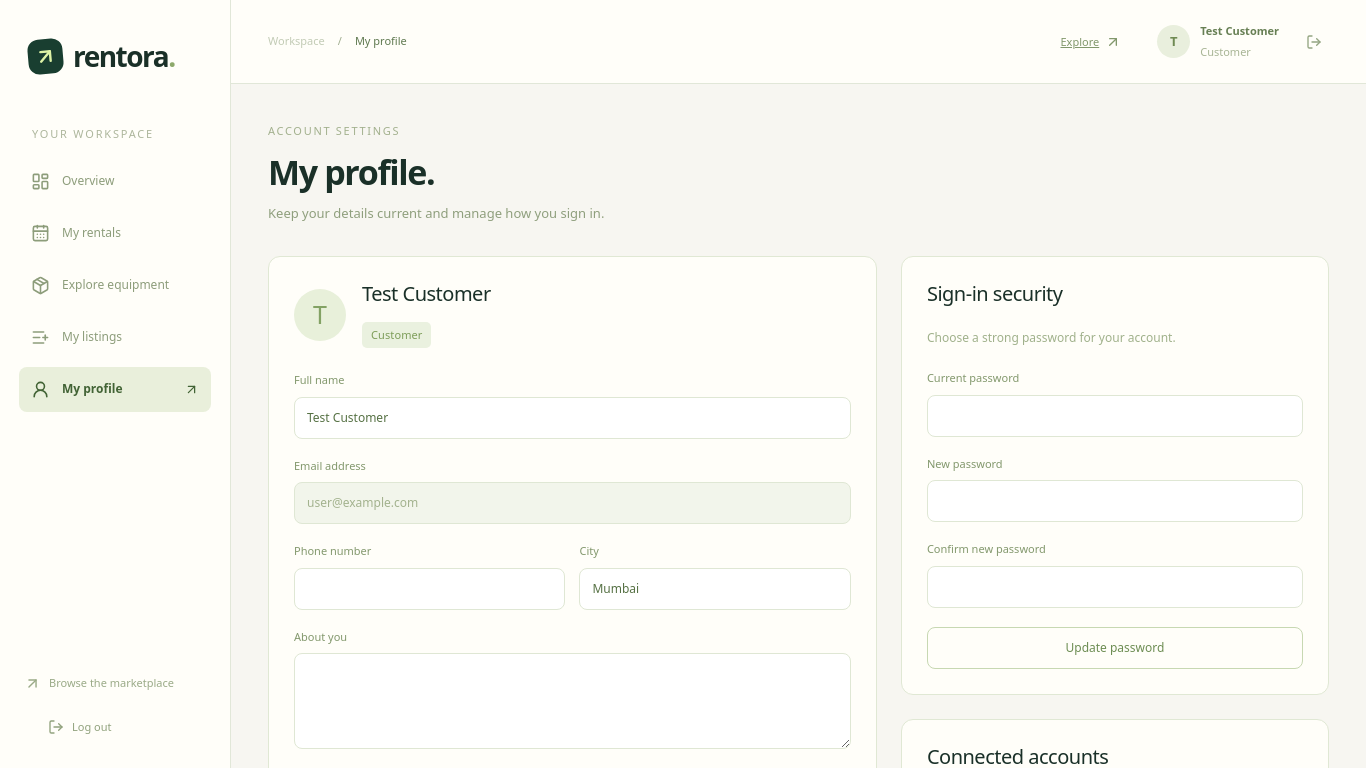
it: Rentora URL routes and account flows › opens a customer profile directly and saves changes using the API
Replace the text in the field labelled "City" with "Pune" at [715, 589], box [580, 568, 851, 610]
(page scrolled)
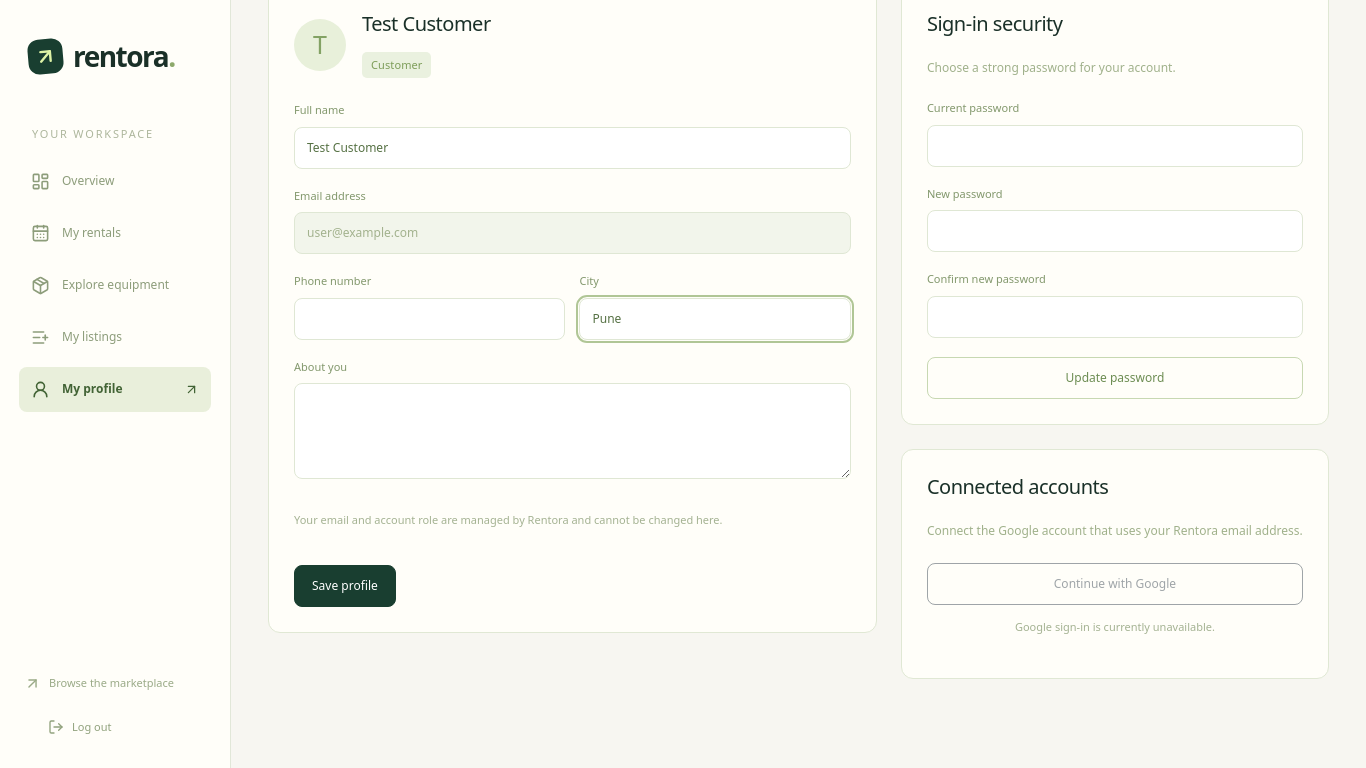
Click the button "Save profile" at [345, 586], box [294, 565, 396, 607]
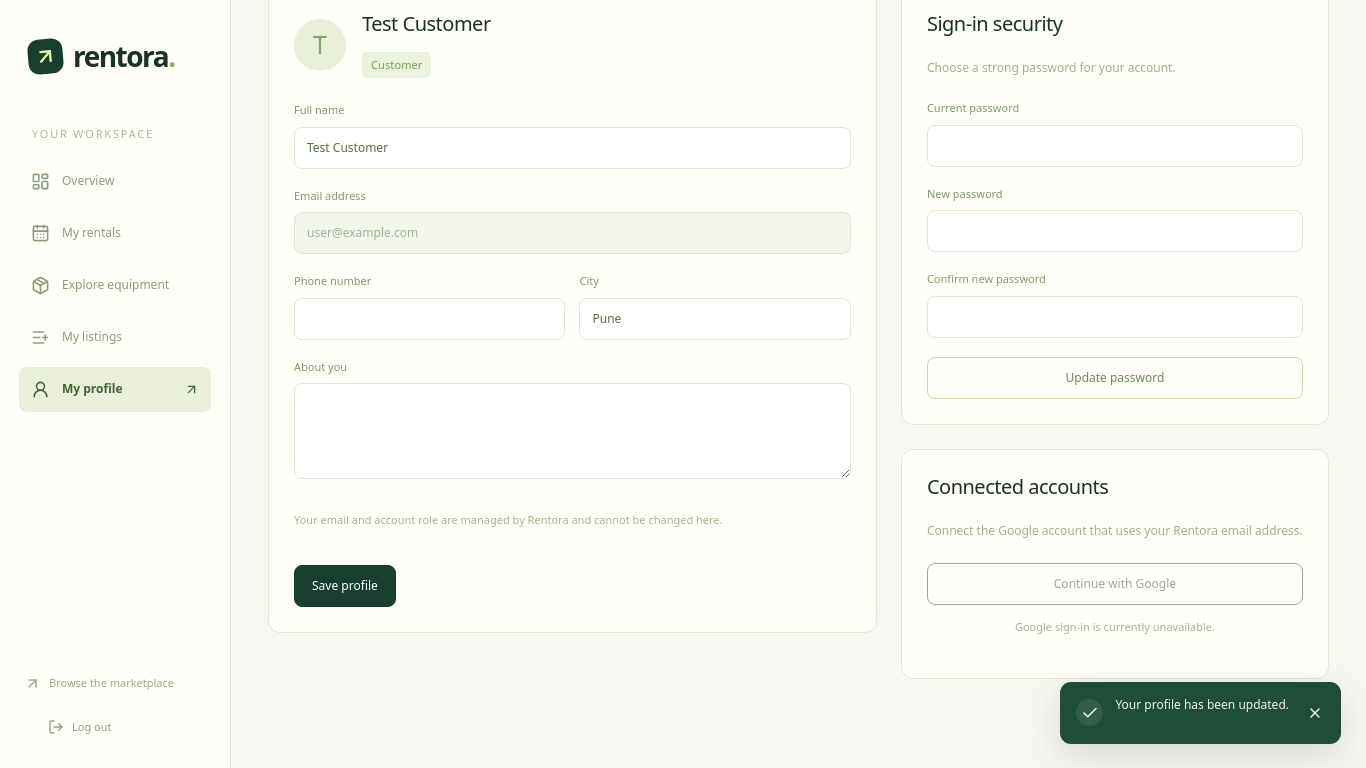
Expected: the text "Your profile has been updated." is shown, [1115, 695, 1289, 715]
